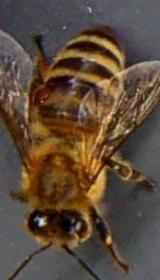varroa_mite: (24, 77, 56, 110)
